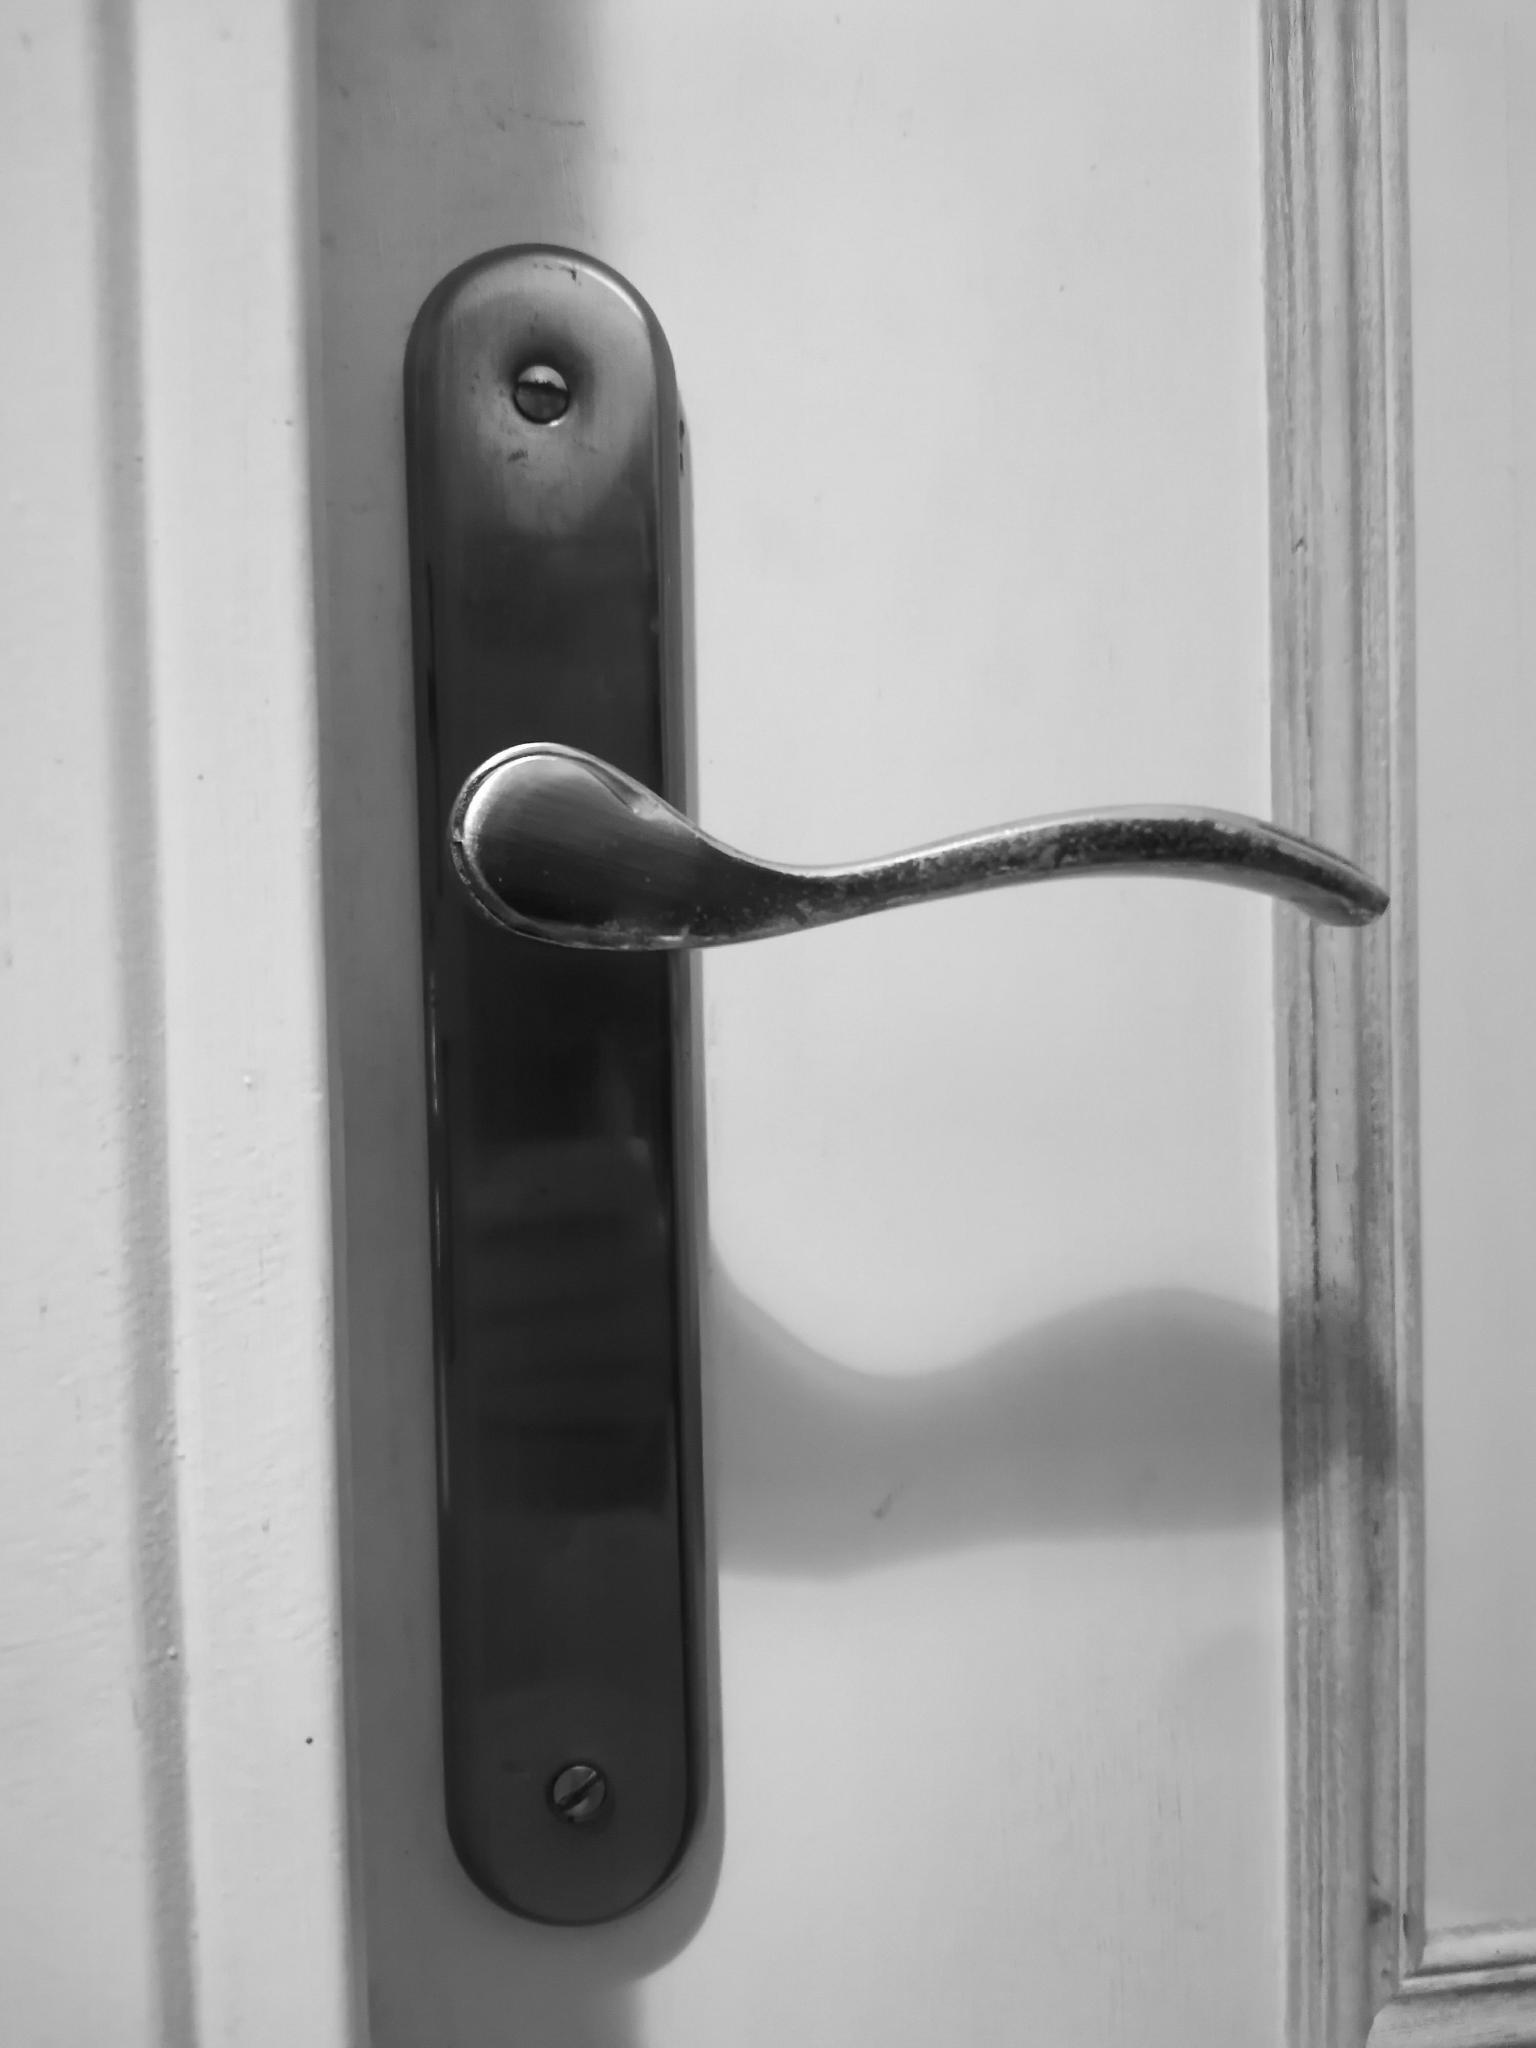screw: (545, 1756, 613, 1824), (507, 360, 576, 426)
